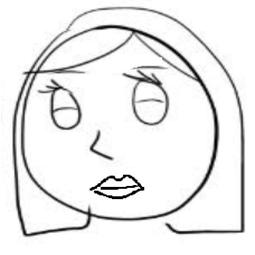cupid_mouth: (85, 170, 151, 205)
eye: (121, 71, 173, 126), (35, 78, 86, 134)
eyebrow: (129, 63, 169, 71), (53, 69, 87, 76)
pointy_nose: (87, 127, 117, 166)
